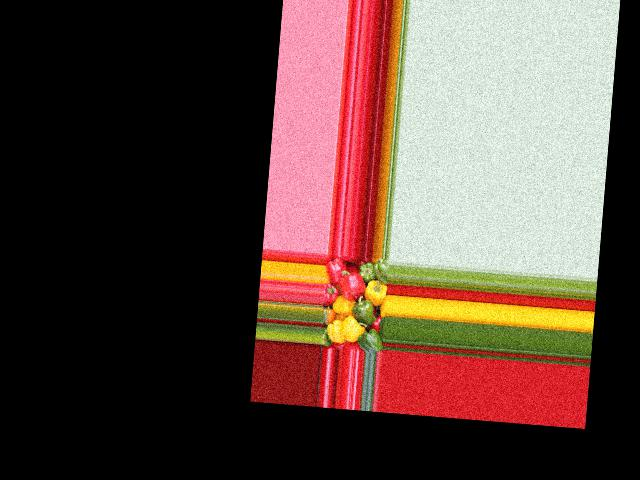bell_pepper: (319, 324, 332, 346)
